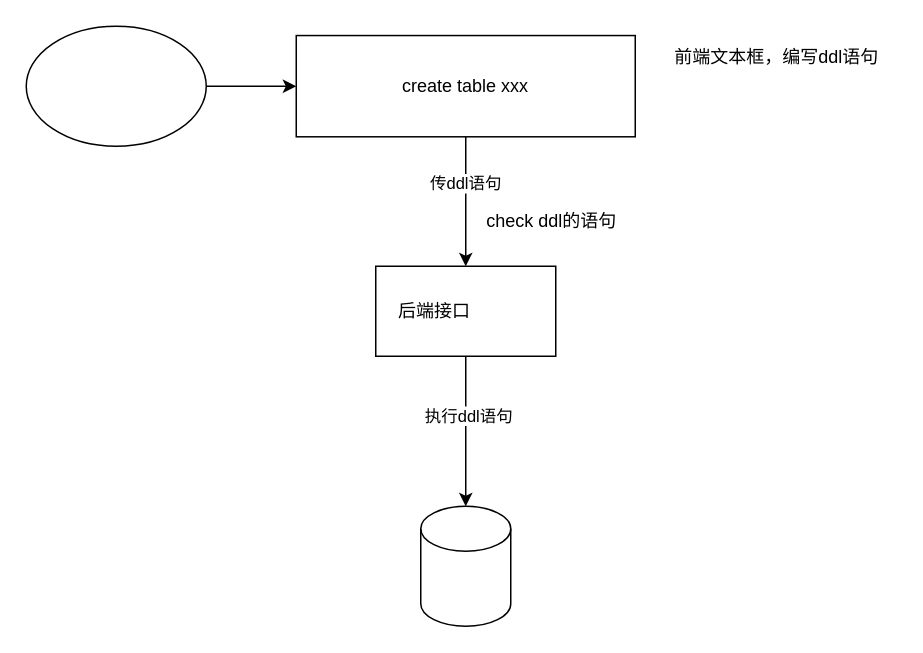
The diagram is 923 pixels wide and 653 high, and some of its shapes have lost their labels. The box of each missing label's shape, as (x1, y1, x2, y2) in pixels:
db: (419, 505, 511, 626)
前端页面: (25, 25, 206, 146)
